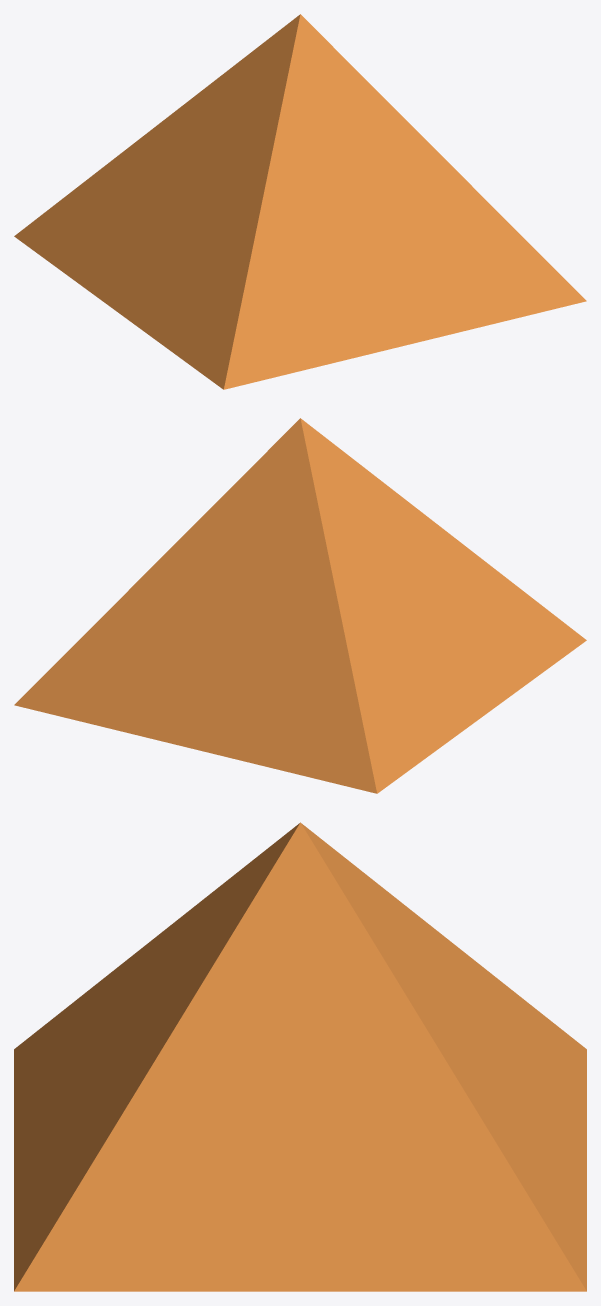
File: coord.glb
3 views of the same model, one above another, from view 1: azimuth 30°, elevation 25°; view 2: azimuth 150°, elevation 25°; view 3: azimuth 270°, elevation 25° (orthographic). The views are drawn at different scales.
Visible parts, largest first — view 1: Cube; view 2: Cube; view 3: Cube.
Part boxes in pixels (x1,y1,x2,y2): Cube: (14,14,586,389); Cube: (14,418,586,793); Cube: (14,822,586,1291).
Bounding box in the file's own units: 2 × 1.34 × 2.
